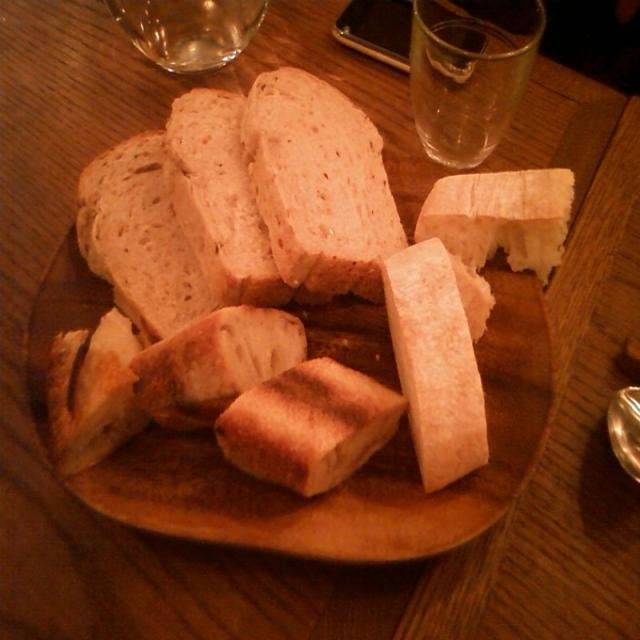面包点心: (22, 62, 592, 492)
